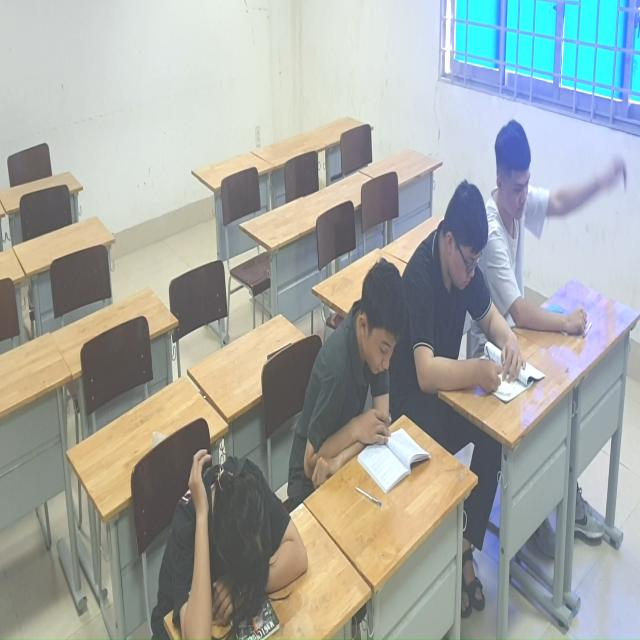raise_hand: (484, 103, 631, 350)
read: (405, 183, 547, 423), (303, 256, 436, 497)
sleep: (149, 450, 311, 640)
